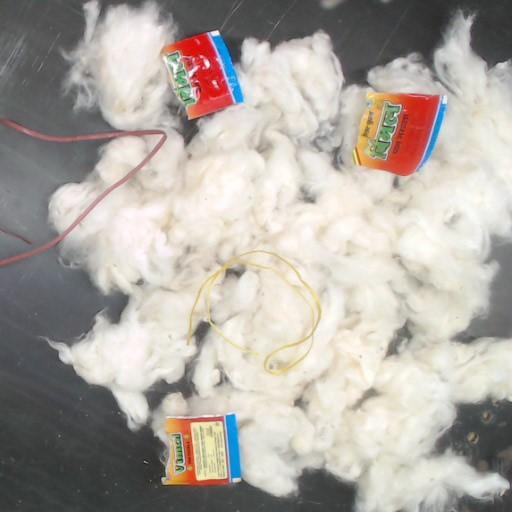conveyor belt: (0, 249, 353, 511), (162, 0, 511, 82), (0, 126, 106, 243), (441, 401, 511, 483), (468, 241, 511, 335), (147, 377, 190, 407), (458, 488, 511, 511)
cotton: (49, 14, 511, 511), (49, 138, 144, 232)
packet: (353, 92, 446, 175), (161, 30, 243, 120), (163, 413, 241, 485)
thread: (0, 119, 167, 267), (187, 250, 321, 375), (0, 226, 31, 244)
